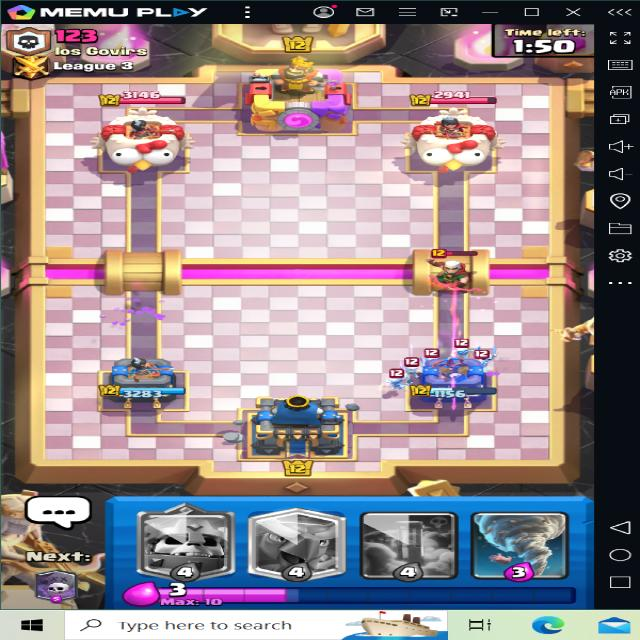magic-archer: (403, 248, 489, 292)
